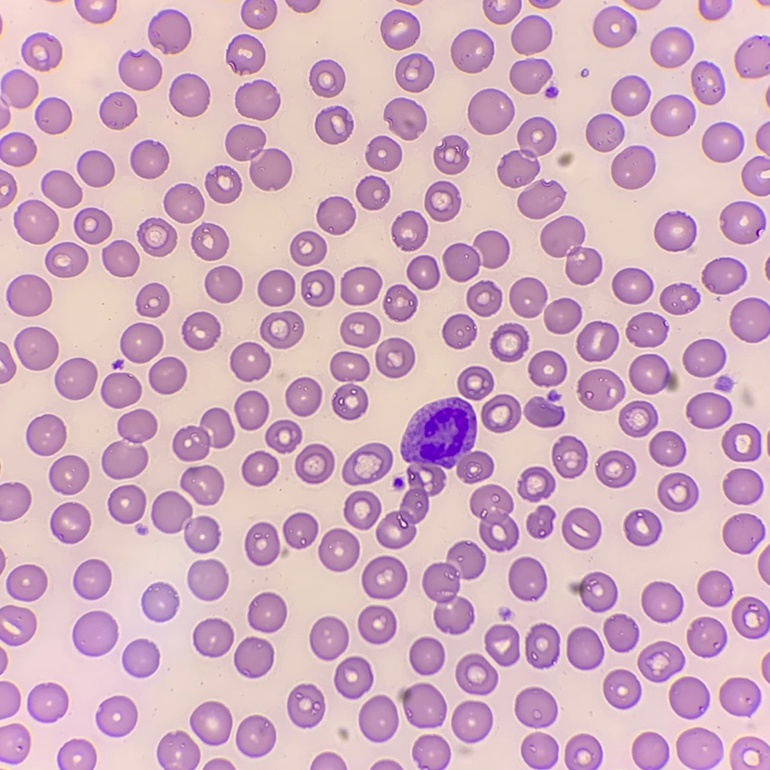RBC: (376, 397, 493, 548), (423, 541, 485, 634), (226, 124, 291, 189), (152, 491, 219, 552), (541, 216, 601, 284), (498, 117, 556, 186), (102, 409, 156, 478), (443, 231, 508, 281), (173, 408, 233, 460), (470, 485, 518, 550), (398, 683, 446, 727), (468, 89, 514, 134), (342, 443, 392, 484), (73, 611, 117, 655), (14, 200, 58, 243), (6, 274, 51, 316), (578, 369, 624, 410), (629, 354, 677, 393), (15, 327, 58, 370), (148, 9, 190, 53), (362, 556, 406, 598), (190, 701, 232, 745), (677, 728, 722, 769), (570, 572, 616, 612), (451, 29, 493, 72), (611, 146, 654, 188), (721, 201, 764, 243), (638, 641, 683, 681), (651, 95, 694, 136), (359, 695, 397, 741), (384, 98, 426, 139), (593, 7, 636, 47), (235, 80, 279, 119), (730, 298, 769, 342), (518, 181, 564, 218), (55, 358, 96, 399), (187, 559, 228, 600), (650, 27, 692, 67), (169, 74, 209, 116), (319, 529, 359, 571), (118, 51, 161, 90), (456, 654, 497, 694), (515, 687, 556, 727), (452, 701, 492, 742), (120, 323, 162, 362), (310, 617, 348, 660), (50, 503, 90, 543), (723, 513, 763, 553), (642, 582, 682, 622), (96, 696, 136, 736), (577, 321, 618, 360), (26, 414, 65, 455), (669, 677, 708, 718), (236, 715, 275, 756), (181, 466, 223, 504), (334, 656, 372, 698), (157, 731, 199, 769), (260, 311, 303, 348), (509, 557, 546, 600), (702, 257, 746, 293), (686, 392, 730, 428), (702, 123, 742, 162), (230, 342, 270, 381), (193, 618, 233, 657), (234, 637, 273, 677), (562, 508, 600, 549), (287, 684, 324, 726), (226, 34, 265, 73), (295, 444, 334, 483), (49, 455, 88, 494), (687, 617, 726, 656), (511, 15, 551, 53), (21, 32, 61, 70), (611, 75, 649, 115), (655, 212, 695, 250), (341, 267, 381, 305), (248, 592, 286, 632), (683, 339, 724, 376), (732, 597, 769, 638), (567, 627, 603, 669), (381, 10, 419, 49), (164, 184, 203, 222), (376, 338, 414, 377), (481, 394, 520, 432), (658, 473, 697, 511), (28, 683, 67, 721), (41, 170, 81, 207), (73, 559, 110, 599), (6, 564, 46, 601), (130, 140, 168, 178), (138, 218, 176, 256), (722, 423, 760, 461), (596, 450, 635, 487), (603, 669, 640, 708), (46, 242, 87, 277), (245, 523, 279, 565), (525, 624, 558, 667), (317, 197, 355, 234), (182, 312, 220, 349), (108, 485, 145, 523), (358, 605, 395, 643), (720, 678, 758, 715), (510, 278, 546, 317), (723, 468, 762, 504), (612, 268, 652, 303), (510, 59, 551, 93), (626, 312, 667, 346), (552, 436, 586, 477), (396, 54, 433, 91), (586, 114, 623, 151), (191, 223, 228, 260), (1, 69, 37, 107), (315, 107, 353, 143), (491, 323, 527, 361), (142, 583, 178, 621), (425, 181, 460, 220), (392, 211, 427, 250), (341, 312, 380, 347), (0, 606, 35, 645), (101, 373, 141, 407), (100, 92, 136, 129), (77, 150, 114, 186), (102, 240, 139, 276), (149, 357, 186, 393), (344, 491, 380, 528), (123, 639, 159, 676), (632, 732, 668, 769), (619, 401, 657, 436), (409, 637, 444, 675), (485, 625, 518, 665), (691, 62, 722, 104), (35, 97, 71, 133), (205, 166, 241, 202), (205, 266, 241, 302), (258, 270, 294, 306), (74, 208, 111, 243), (286, 378, 321, 415), (624, 510, 661, 545), (412, 735, 450, 769), (434, 135, 467, 174), (544, 298, 580, 333), (521, 733, 557, 768), (565, 734, 601, 769), (735, 40, 769, 77), (529, 351, 566, 385), (604, 614, 638, 651), (235, 391, 268, 429), (649, 431, 684, 466), (310, 60, 344, 96), (290, 231, 326, 265), (242, 451, 278, 485), (518, 467, 554, 501), (731, 737, 769, 769), (0, 132, 35, 166), (366, 136, 401, 170), (467, 281, 501, 316), (333, 384, 367, 419), (301, 270, 334, 306), (660, 284, 699, 314), (283, 513, 317, 547), (383, 285, 416, 320), (698, 571, 731, 606), (330, 352, 369, 381), (443, 314, 476, 348), (458, 366, 492, 399), (266, 420, 301, 452), (0, 483, 30, 520), (0, 724, 30, 761), (58, 739, 95, 769), (525, 397, 563, 426), (356, 176, 389, 209), (136, 283, 169, 316), (407, 255, 439, 289), (742, 156, 769, 195), (241, 0, 276, 28), (75, 0, 116, 23), (483, 0, 520, 23), (527, 505, 553, 537), (0, 681, 19, 718), (0, 343, 15, 382), (0, 171, 16, 206), (311, 753, 345, 769), (699, 0, 727, 19), (287, 0, 319, 12), (756, 123, 769, 152), (758, 548, 769, 581), (205, 758, 232, 769), (629, 0, 657, 9), (373, 760, 400, 769), (716, 376, 731, 391), (532, 0, 556, 8), (0, 107, 9, 127), (762, 655, 769, 679), (559, 153, 571, 165), (393, 477, 403, 489), (0, 650, 6, 670), (546, 87, 556, 97), (0, 555, 4, 567), (407, 0, 416, 4), (765, 263, 769, 271), (762, 0, 769, 4)
